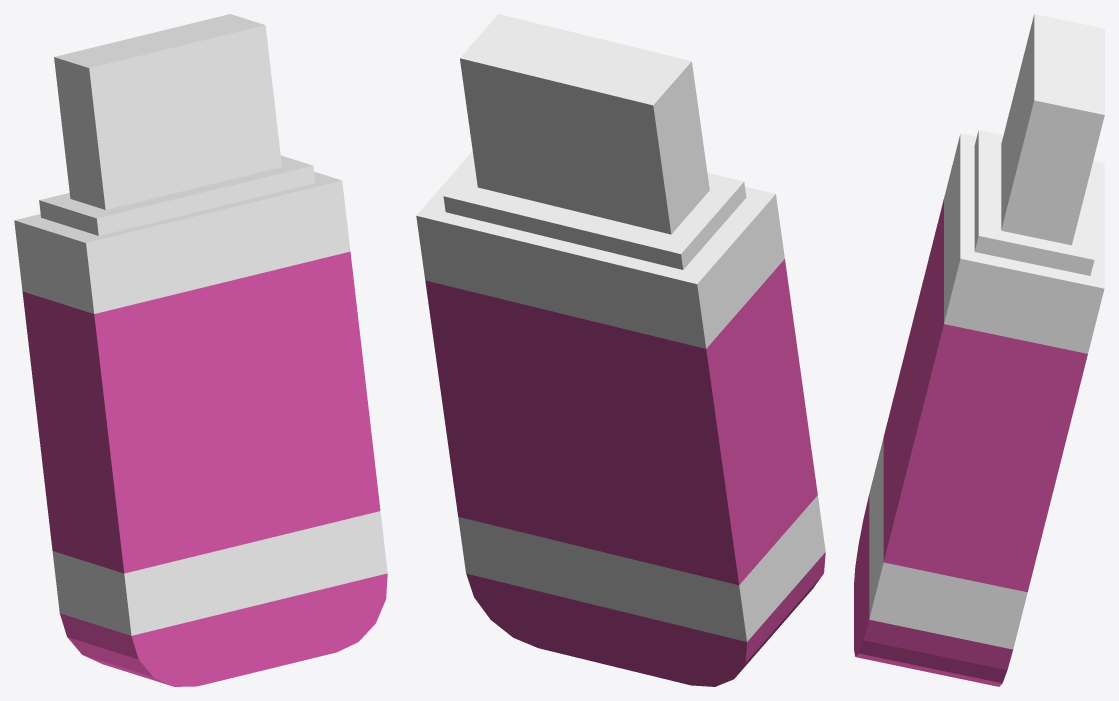
Rendered from usb_anim2.glb.
3 views of the same model, side by side, from view 1: azimuth 30°, elevation 25°; view 2: azimuth 150°, elevation 25°; view 3: azimuth 270°, elevation 25° (orthographic). The views are drawn at different scales.
Parts seen in each view (by area): view 1: Obj_usb_1; view 2: Obj_usb_1; view 3: Obj_usb_1.
Boxes of the visible parts, box(x1,y1,x2,y2) form: Obj_usb_1: box(14, 14, 387, 686); Obj_usb_1: box(416, 14, 825, 686); Obj_usb_1: box(854, 14, 1104, 686).
Size of the model in its own units: 1.21 by 2.65 by 1.02.
